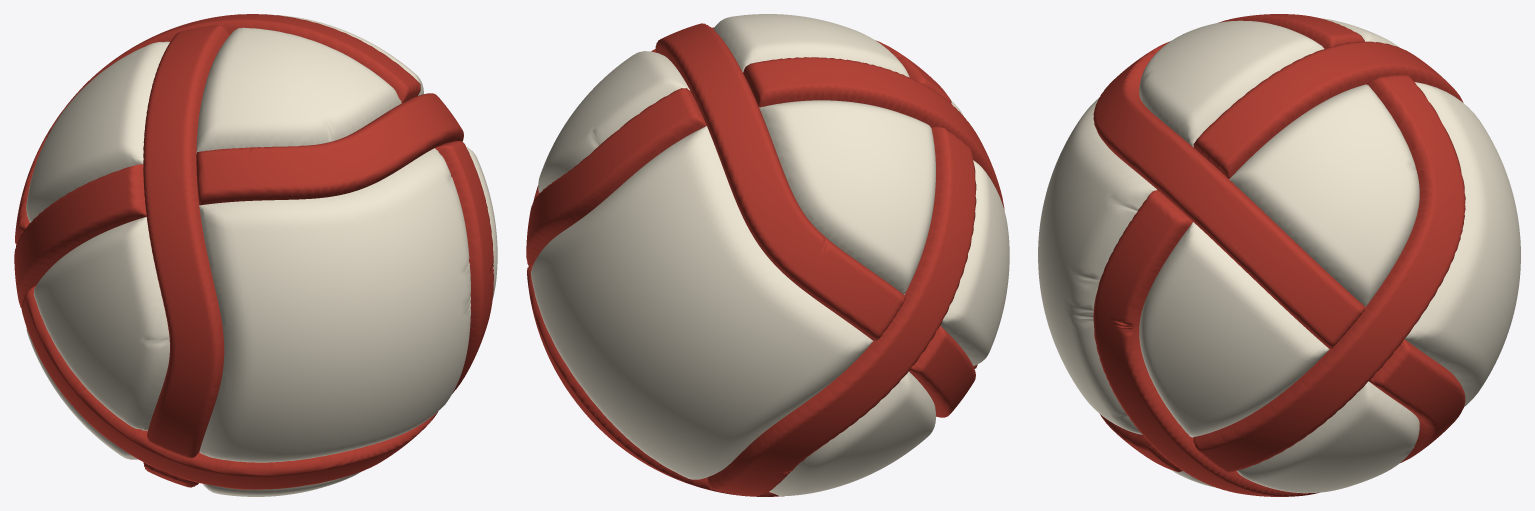
Rendered from turkshead.glb.
3 views of the same model, side by side, from view 1: azimuth 30°, elevation 25°; view 2: azimuth 150°, elevation 25°; view 3: azimuth 270°, elevation 25° (orthographic).
Visible parts, largest first — view 1: panel_007_polygon, panel_003_polygon, panel_005_polygon, panel_001_polygon, panel_010_polygon, panel_004_polygon, panel_006_polygon, panel_016_polygon, panel_002_polygon, panel_014_polygon, panel_012_polygon, panel_008_polygon (+2 smaller); view 2: panel_018_polygon, panel_004_polygon, panel_002_polygon, panel_016_polygon, panel_009_polygon, panel_003_polygon, panel_017_polygon, panel_005_polygon, panel_011_polygon, panel_001_polygon, panel_006_polygon, panel_013_polygon (+1 smaller); view 3: panel_011_polygon, panel_009_polygon, panel_008_polygon, panel_010_polygon, panel_007_polygon, panel_018_polygon, panel_014_polygon, panel_001_polygon, panel_002_polygon, panel_015_polygon, panel_013_polygon, panel_003_polygon (+1 smaller).
Boxes of the visible parts, left/top/right/bottom form: panel_007_polygon: left=199, top=148, right=470, bottom=462; panel_003_polygon: left=143, top=25, right=229, bottom=458; panel_005_polygon: left=33, top=217, right=169, bottom=430; panel_001_polygon: left=196, top=27, right=401, bottom=153; panel_010_polygon: left=196, top=93, right=463, bottom=205; panel_004_polygon: left=26, top=41, right=169, bottom=222; panel_006_polygon: left=21, top=285, right=438, bottom=489; panel_016_polygon: left=14, top=164, right=146, bottom=308; panel_002_polygon: left=15, top=14, right=420, bottom=244; panel_014_polygon: left=435, top=141, right=493, bottom=393; panel_012_polygon: left=203, top=472, right=360, bottom=496; panel_008_polygon: left=466, top=147, right=497, bottom=298; panel_018_polygon: left=531, top=126, right=873, bottom=479; panel_004_polygon: left=759, top=100, right=935, bottom=294; panel_002_polygon: left=655, top=23, right=905, bottom=340; panel_016_polygon: left=707, top=126, right=976, bottom=496; panel_009_polygon: left=526, top=88, right=706, bottom=266; panel_003_polygon: left=743, top=57, right=1004, bottom=368; panel_017_polygon: left=769, top=371, right=935, bottom=495; panel_005_polygon: left=940, top=160, right=1009, bottom=365; panel_011_polygon: left=538, top=51, right=690, bottom=192; panel_001_polygon: left=713, top=14, right=909, bottom=77; panel_006_polygon: left=909, top=326, right=975, bottom=417; panel_013_polygon: left=527, top=262, right=784, bottom=496; panel_011_polygon: left=1229, top=84, right=1419, bottom=306; panel_009_polygon: left=1193, top=74, right=1465, bottom=472; panel_008_polygon: left=1139, top=222, right=1329, bottom=437; panel_010_polygon: left=1093, top=41, right=1365, bottom=349; panel_007_polygon: left=1038, top=97, right=1156, bottom=434; panel_018_polygon: left=1404, top=82, right=1520, bottom=406; panel_014_polygon: left=1093, top=190, right=1319, bottom=496; panel_001_polygon: left=1139, top=20, right=1324, bottom=147; panel_002_polygon: left=1193, top=41, right=1463, bottom=179; panel_015_polygon: left=1237, top=381, right=1419, bottom=493; panel_013_polygon: left=1369, top=339, right=1465, bottom=462; panel_003_polygon: left=1218, top=14, right=1364, bottom=48.
Size of the model in its own units: 4.24 by 4.24 by 4.24.
